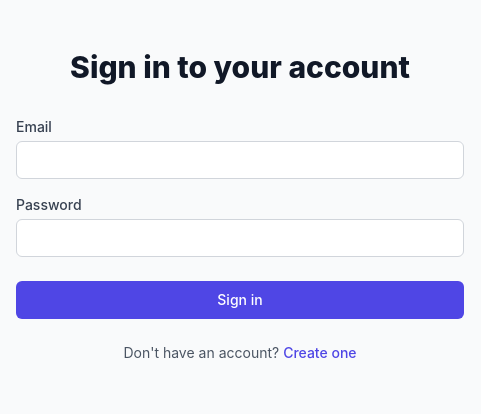
LoginPage › shows an "Invalid email or password" error on 401
In the field labelled "Email": (240, 160) [16,141,464,179], type "dev@example.com"
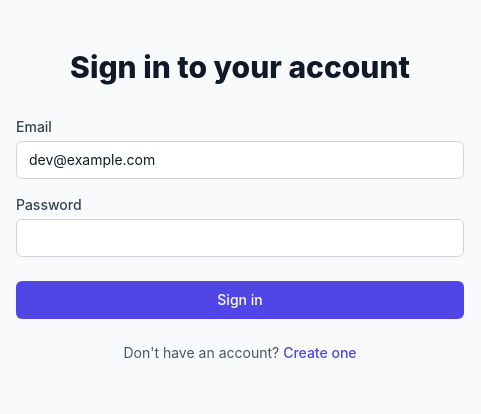
In the password field labelled "Password": (240, 238) [16,219,464,257], type "wrong"
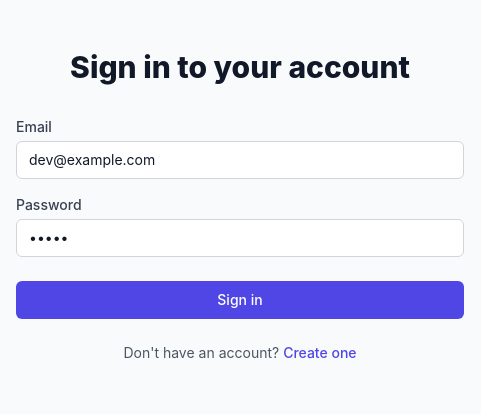
Click the button "Sign in": (240, 300) [16,281,464,319]
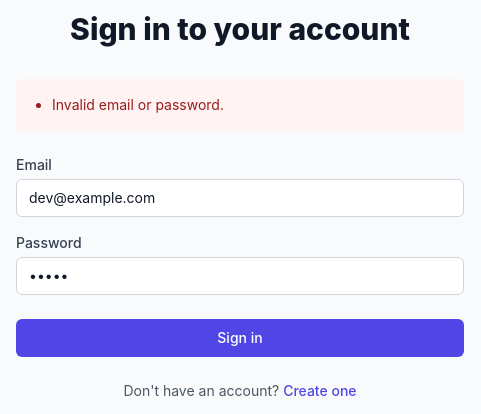
Now the message shows "Invalid email or password", box [52,96,224,113]
